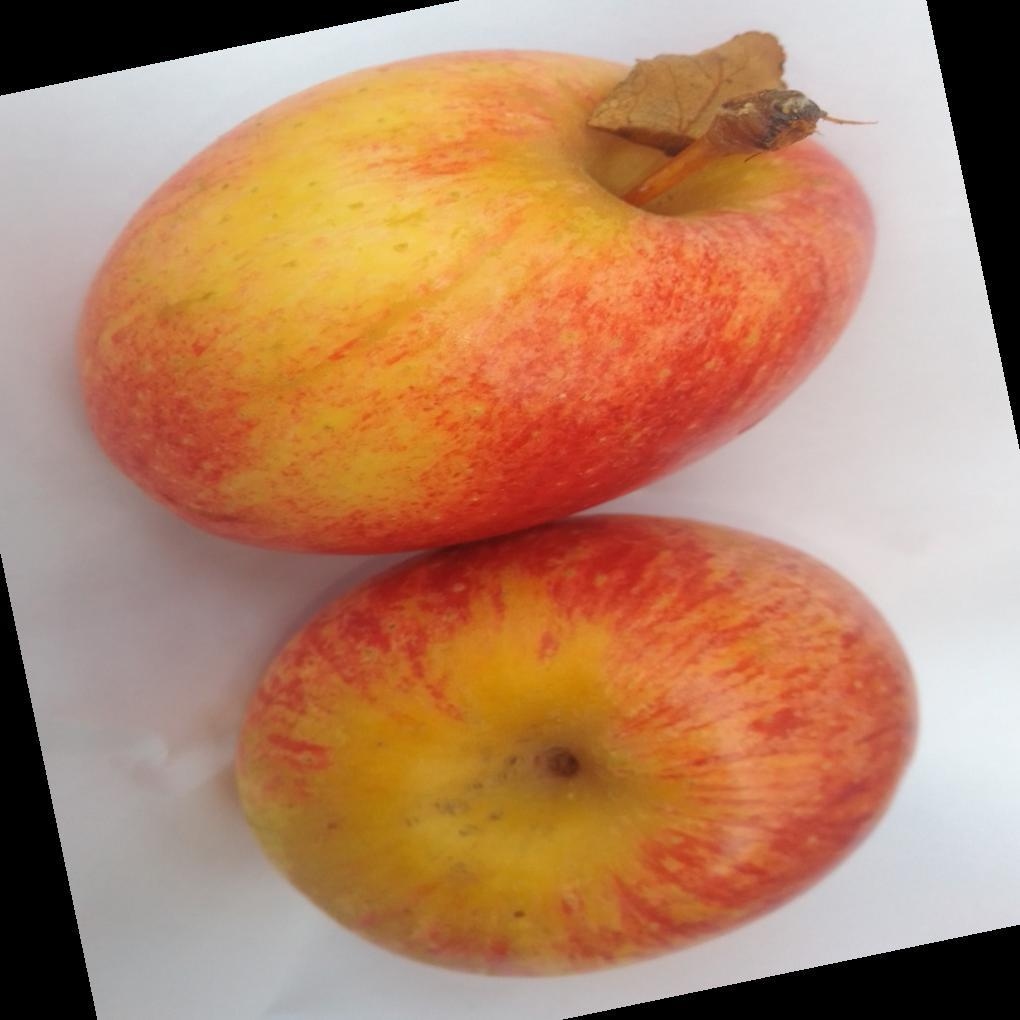FreshGuava: (72, 31, 921, 983)
